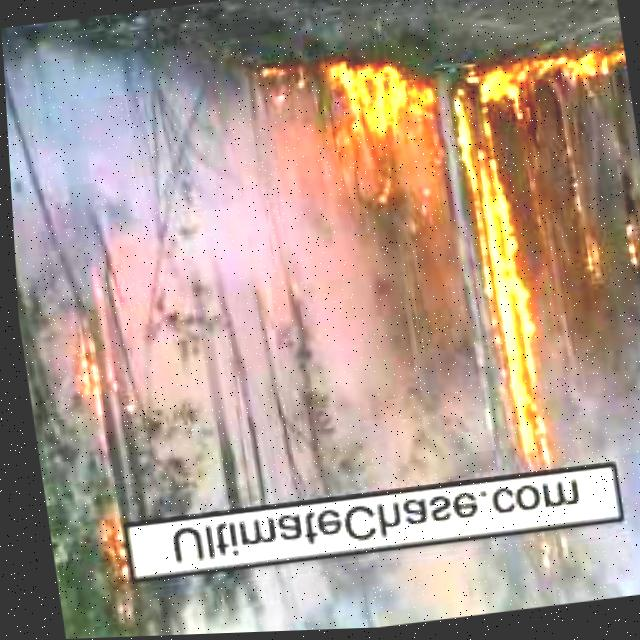Fire: (331, 46, 632, 150), (462, 135, 551, 485), (74, 504, 139, 621), (561, 147, 605, 285), (54, 336, 108, 430), (611, 224, 640, 275)
